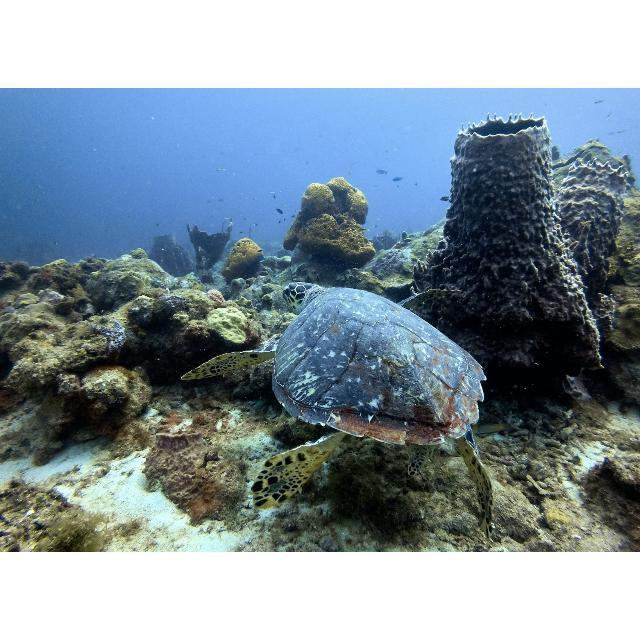turtle: (180, 282, 495, 527)
